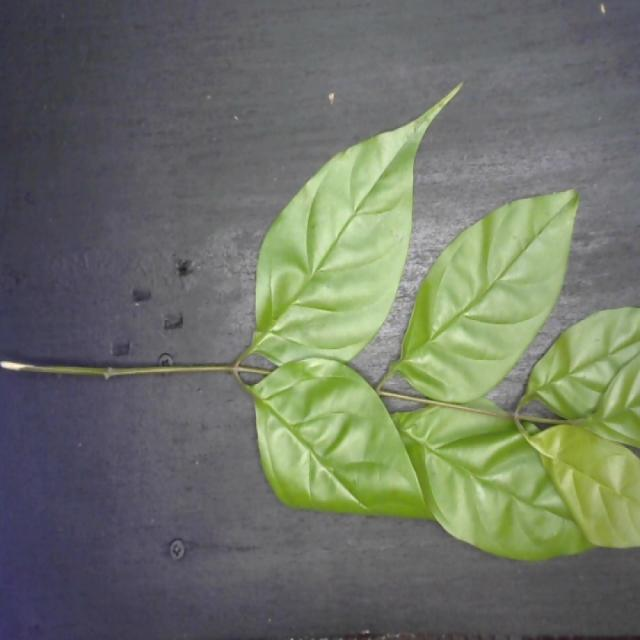biodegradable: (229, 74, 640, 572)
